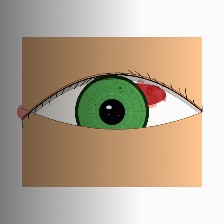hemorrhage_spot: (95, 62, 177, 128)
